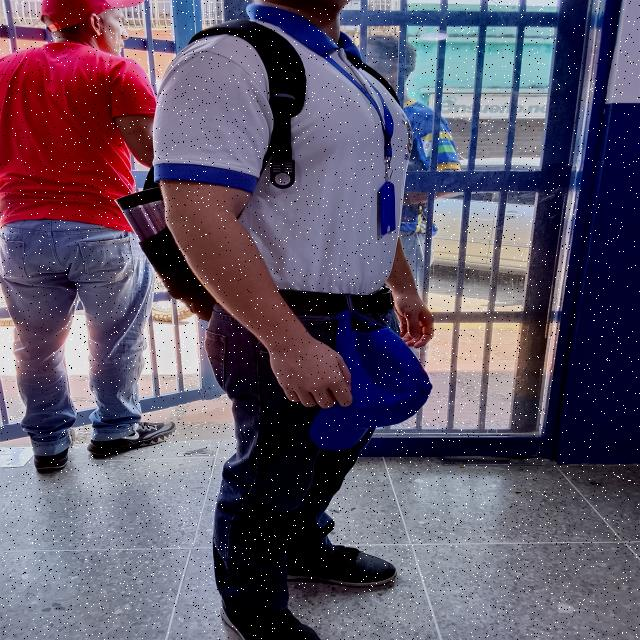carnet: (380, 184, 396, 235)
pantalon_oscuro: (204, 302, 401, 617)
uniforme_superior: (151, 2, 413, 296)
